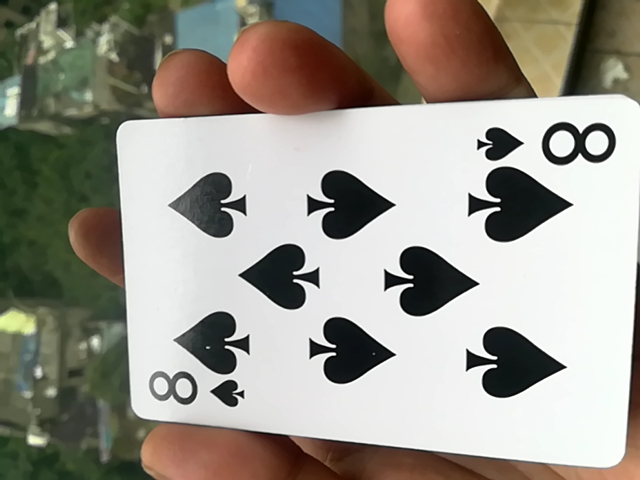ht 8: (107, 100, 637, 475)
